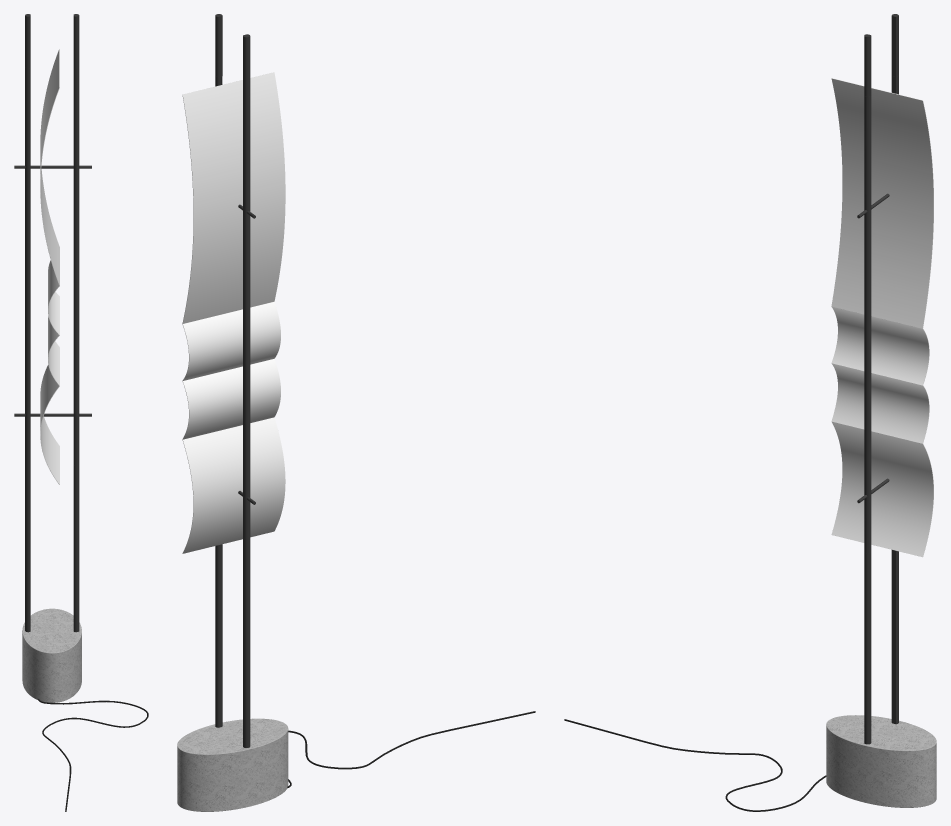
The model's file is LuminariaDePisoPampa.glb.
3 renders of one model, left to right at view 1: azimuth 30°, elevation 25°; view 2: azimuth 150°, elevation 25°; view 3: azimuth 270°, elevation 25°, orthographic. The views are drawn at different scales.
Visible parts, largest first — view 1: Geom3D (×2), Geom3D_brep_60_brep_116, Geom3D_<ALCP025_<ALCP02548612, Geom3D_brep_5_brep_113, Geom3D_brep_63_brep_118, Geom3D_brep_59_brep_114, Geom3D_brep_62_brep_117; view 2: Geom3D (×2), Geom3D_brep_60_brep_116, Geom3D_brep_5_brep_113, Geom3D_brep_63_brep_118; view 3: Geom3D (×2), Geom3D_<ALCP025_<ALCP02548612, Geom3D_brep_60_brep_116, Geom3D_brep_5_brep_113, Geom3D_brep_63_brep_118.
Part boxes in pixels (box(x1,y1,x2,y2)): Geom3D (×2): box(22, 48, 81, 702); Geom3D_brep_60_brep_116: box(25, 67, 30, 615); Geom3D_<ALCP025_<ALCP02548612: box(73, 68, 79, 465); Geom3D_brep_5_brep_113: box(73, 465, 79, 615); Geom3D_brep_63_brep_118: box(38, 699, 148, 811); Geom3D_brep_59_brep_114: box(73, 14, 79, 68); Geom3D_brep_62_brep_117: box(25, 14, 30, 68); Geom3D (×2): box(177, 72, 288, 811); Geom3D_brep_60_brep_116: box(243, 96, 250, 728); Geom3D_brep_5_brep_113: box(215, 544, 222, 708); Geom3D_brep_63_brep_118: box(287, 711, 535, 788); Geom3D (×2): box(826, 78, 936, 807); Geom3D_<ALCP025_<ALCP02548612: box(864, 97, 871, 553); Geom3D_brep_60_brep_116: box(891, 75, 898, 704); Geom3D_brep_5_brep_113: box(864, 553, 871, 724); Geom3D_brep_63_brep_118: box(564, 719, 826, 811).
Bounding box in the file's own units: 0.5158 × 2 × 0.8829.
Materials: 4 (4 with a texture image).
